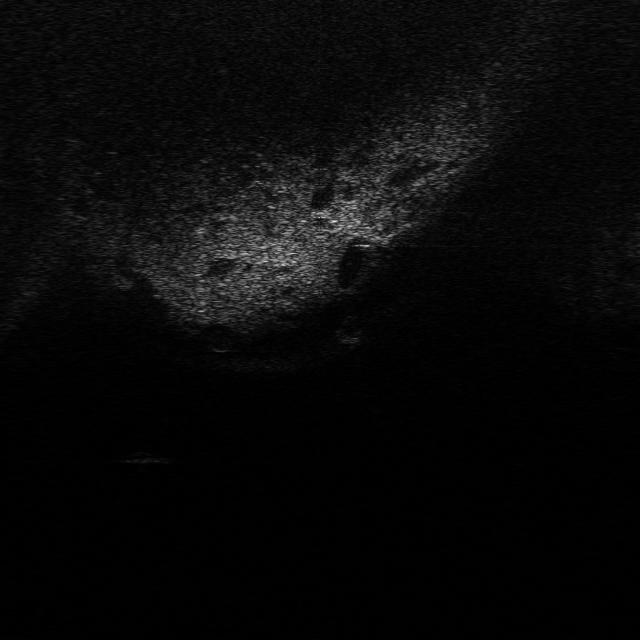ball: (332, 314, 368, 346)
cube: (114, 447, 176, 468)
